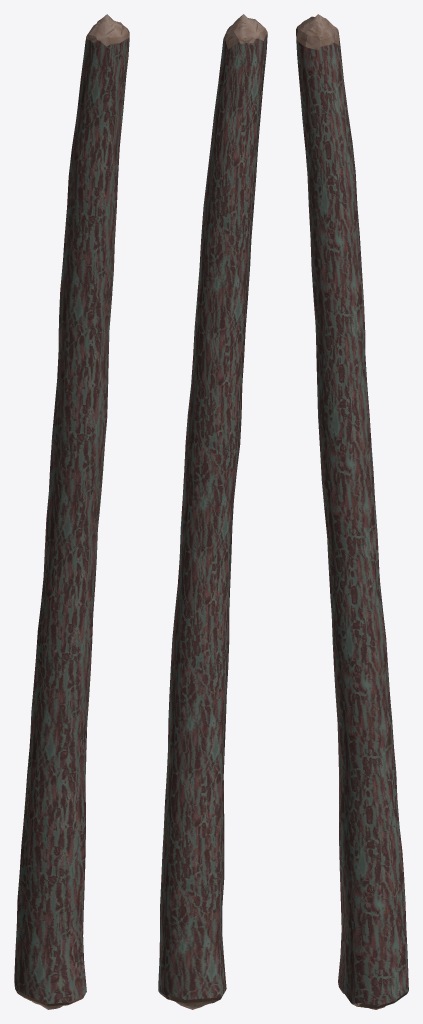
3 views of the same model, side by side, from view 1: azimuth 90°, elevation 25°; view 2: azimuth 150°, elevation 25°; view 3: azimuth 270°, elevation 25° (orthographic). The views are drawn at different scales.
Visible parts, largest first — view 1: SM_MapleTree_02_full_LOD0; view 2: SM_MapleTree_02_full_LOD0; view 3: SM_MapleTree_02_full_LOD0.
Boxes of the visible parts, x1,y1,x2,y2 form: SM_MapleTree_02_full_LOD0: [14, 14, 129, 1009]; SM_MapleTree_02_full_LOD0: [158, 14, 267, 1009]; SM_MapleTree_02_full_LOD0: [296, 14, 408, 1009].
Bounding box in the file's own units: 0.772 × 9.7 × 1.01.
1 material, 1 textured.
